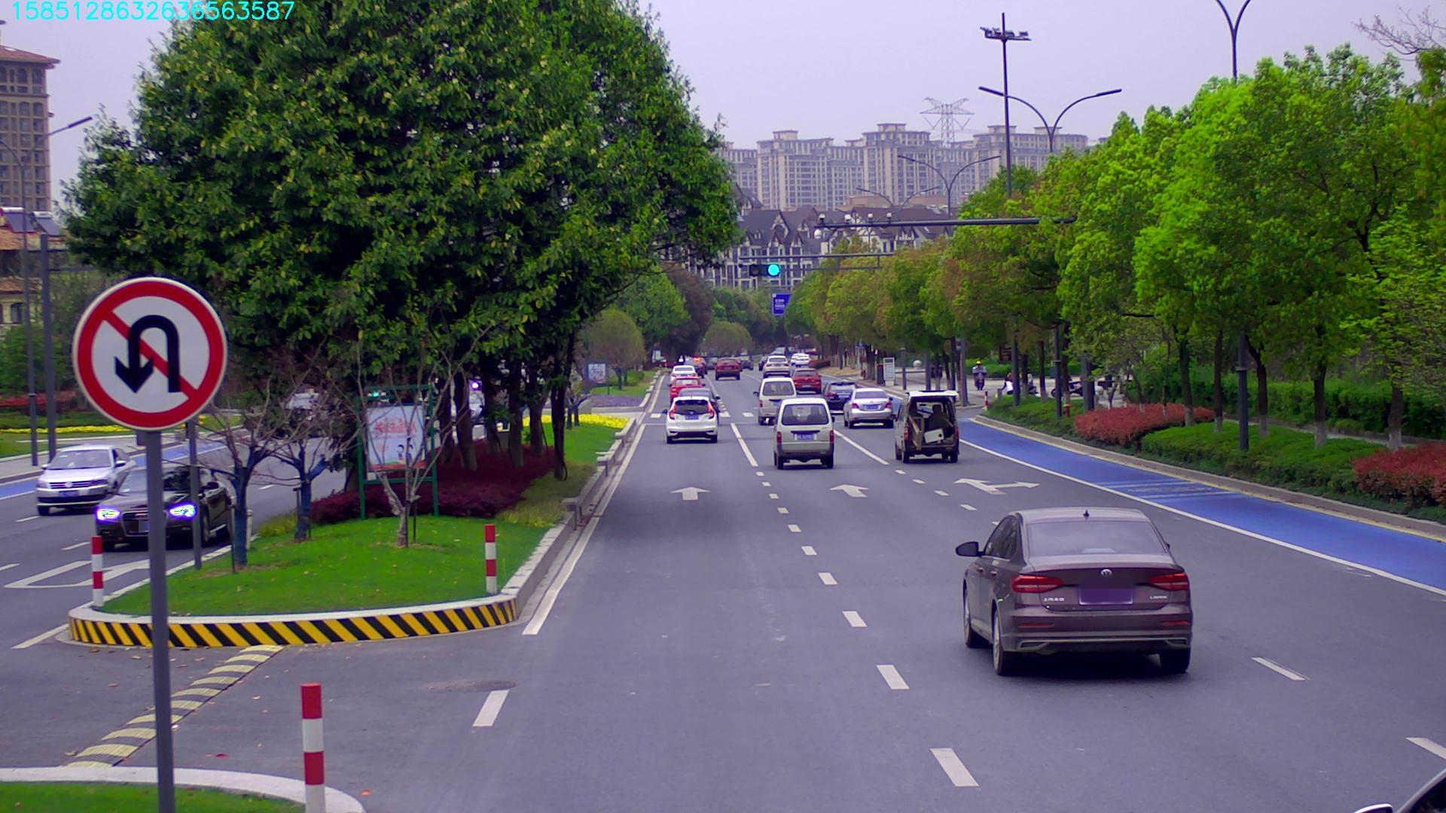green: (746, 261, 778, 279)
